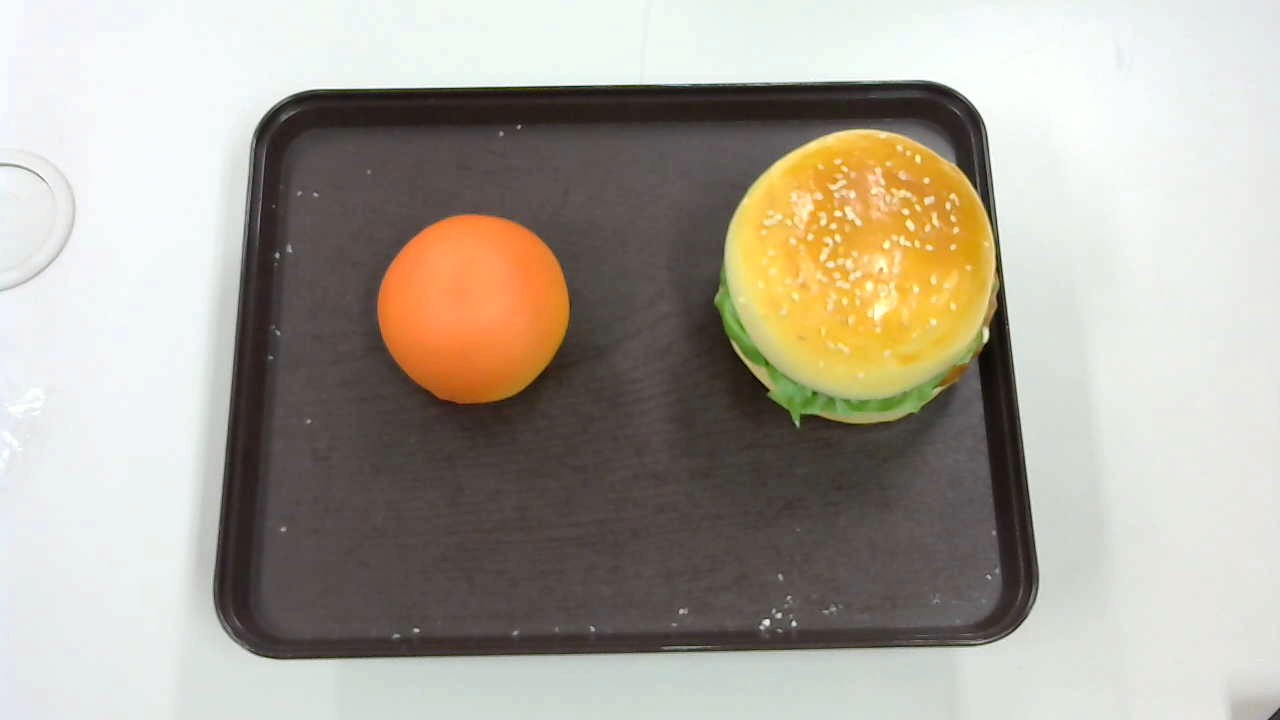bun: (377, 214, 569, 404)
hamburger: (714, 129, 1000, 427)
